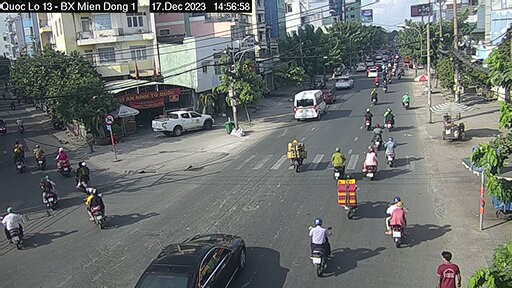car: (126, 222, 269, 288), (146, 107, 246, 148), (287, 84, 331, 125), (334, 70, 351, 93)
motorbike: (306, 219, 337, 283), (82, 187, 111, 223), (335, 170, 363, 207), (390, 198, 411, 245), (286, 134, 308, 175), (37, 175, 56, 216), (329, 141, 346, 181)
